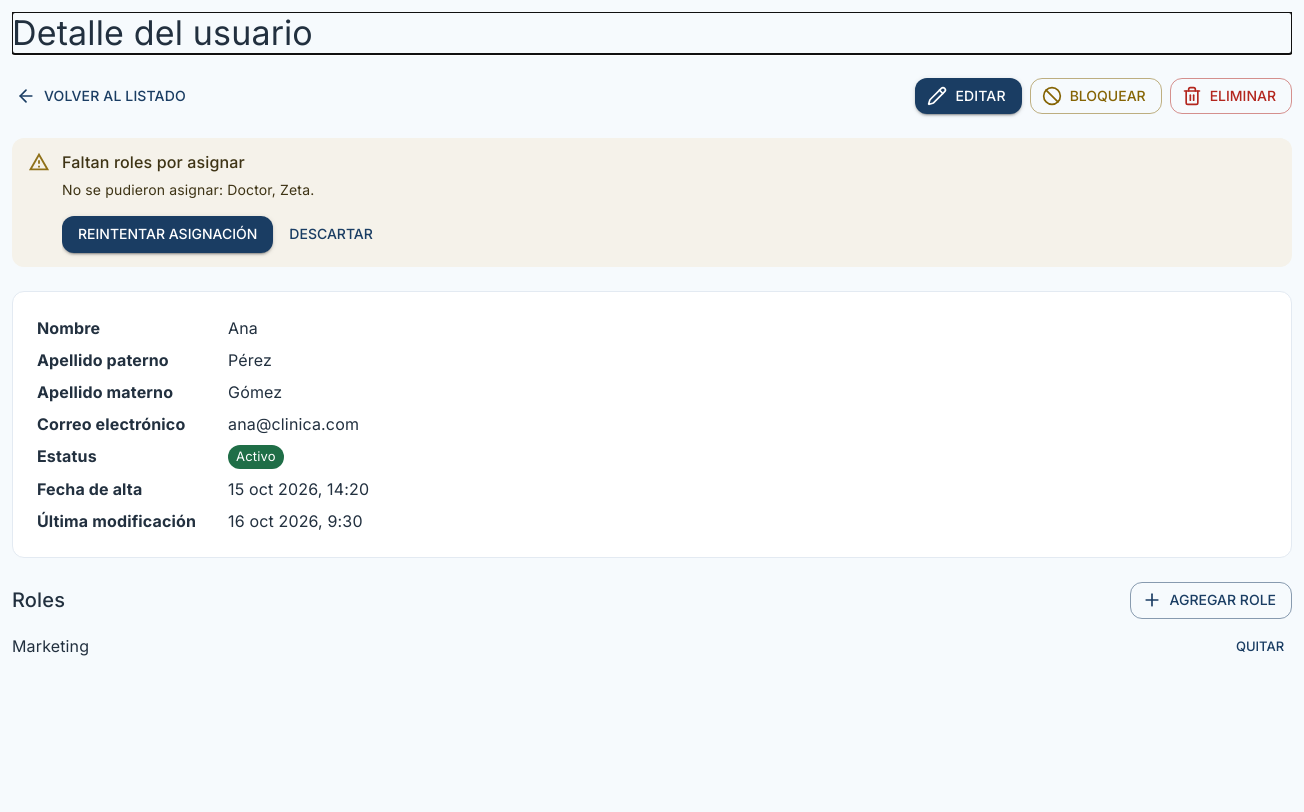
Test: UserDetailPage › the roles that could not be assigned when the user was created (FR-023) › when the retry fails again, it says why (FR-011) › says that the service could not do it, and keeps every role pending
Click the button "Reintentar asignación": x=168, y=234 left=62, top=216, right=273, bottom=253
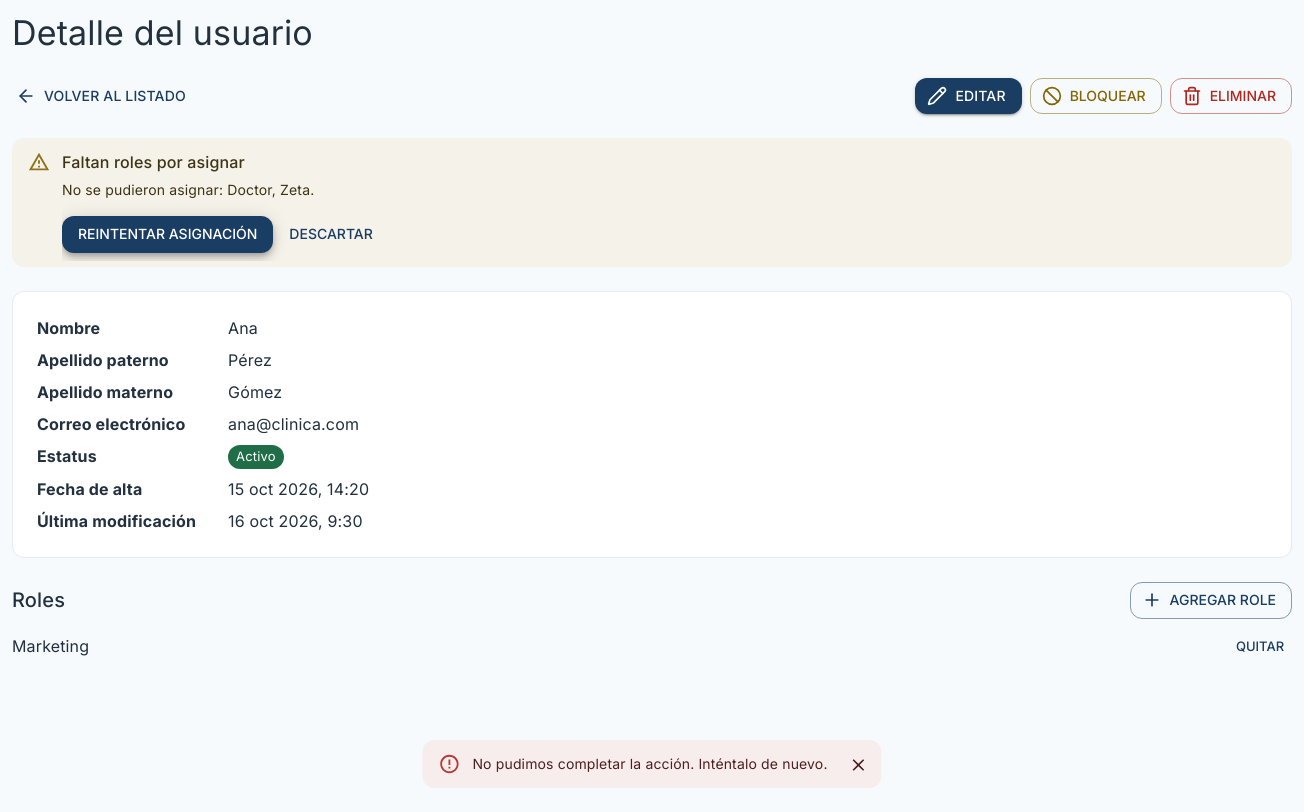
Result: the text "No pudimos completar la acción. Inténtalo de nuevo." is shown at left=472, top=755, right=828, bottom=772
